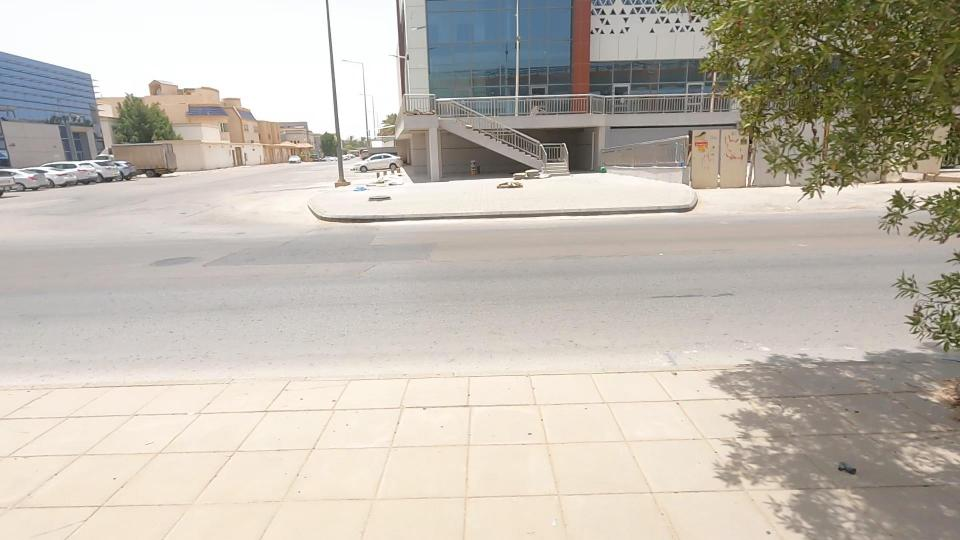GARBAGE: (470, 131, 596, 216), (350, 136, 433, 222), (469, 153, 551, 225), (324, 158, 396, 218)
